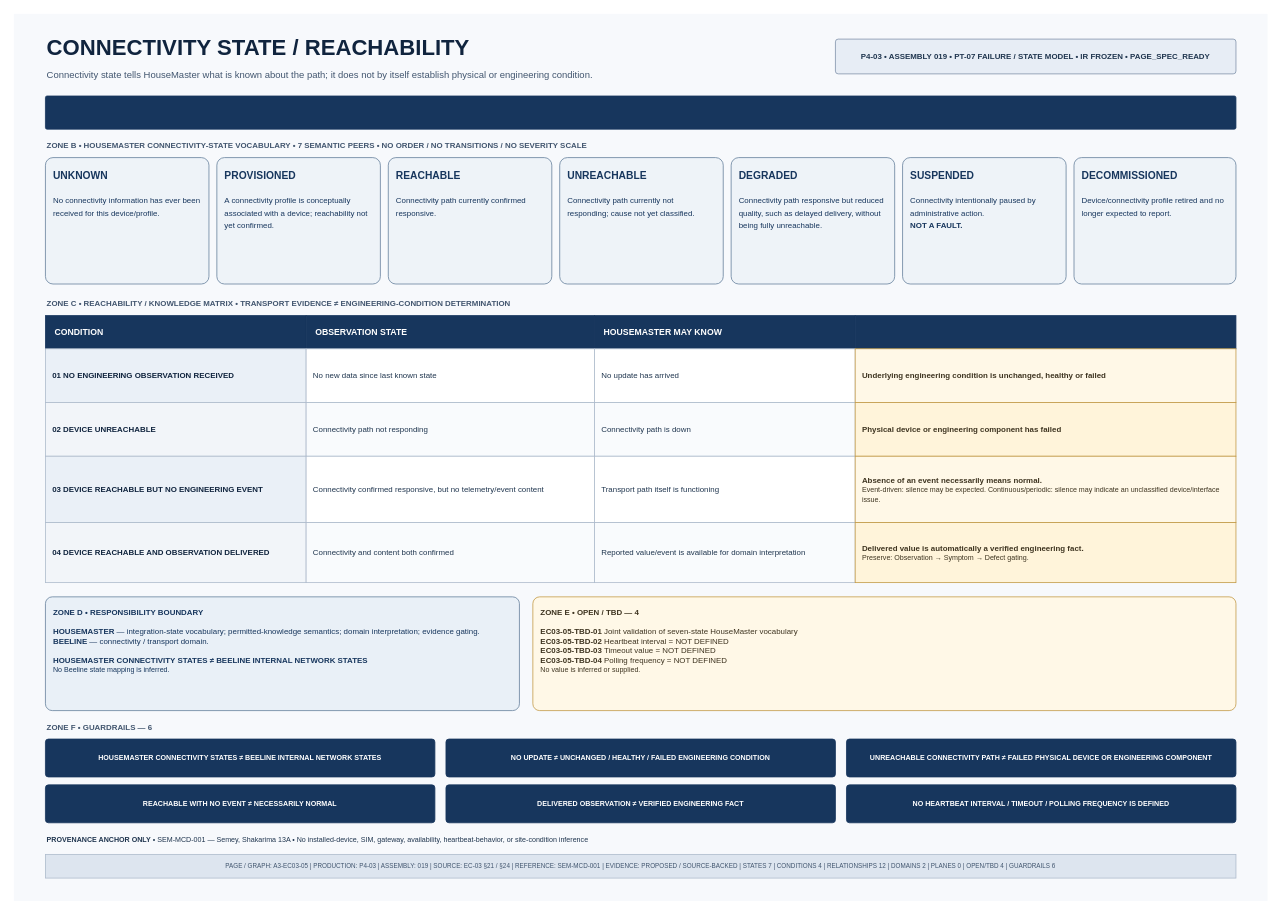
Some shapes in this 1281 by 914 pixel diagram are drawn without their labels. The shapes that lost their labels are listed below. From the top down, each one's centre as x and y in pixels, then its label:
At (x=640, y=112): "PROPOSED HOUSEMASTER INTEGRATION STATES ≠ BEELINE INTERNAL NETWORK STATES".
At (x=1045, y=332): "HOUSEMASTER MUST NOT INFER".
